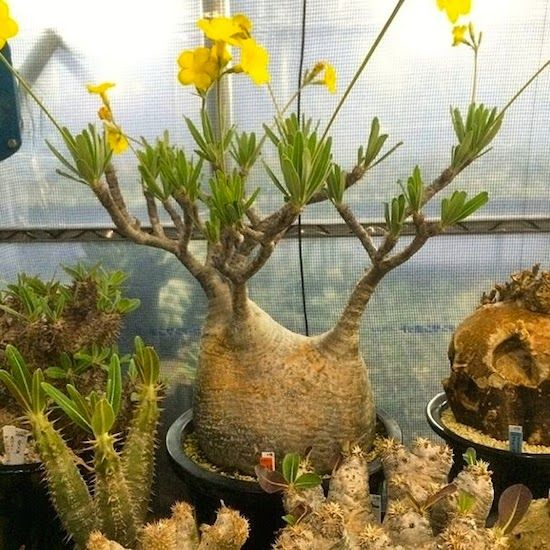Pachypodium rosulatum: (72, 97, 492, 469)
